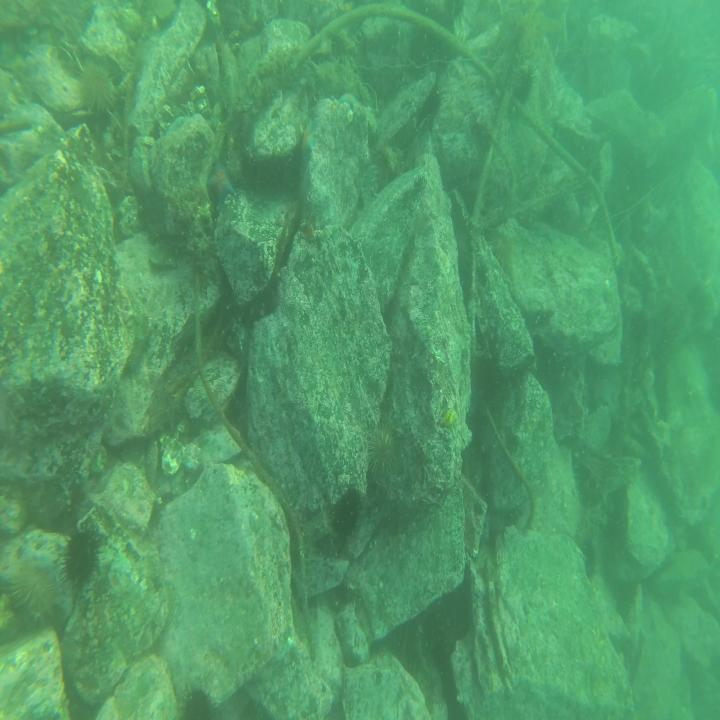echinus: (10, 562, 55, 627), (58, 530, 100, 596), (78, 57, 114, 119), (366, 421, 399, 486), (330, 481, 362, 548), (175, 681, 220, 720)
starfish: (208, 161, 239, 211), (299, 113, 321, 161), (336, 88, 362, 114)
